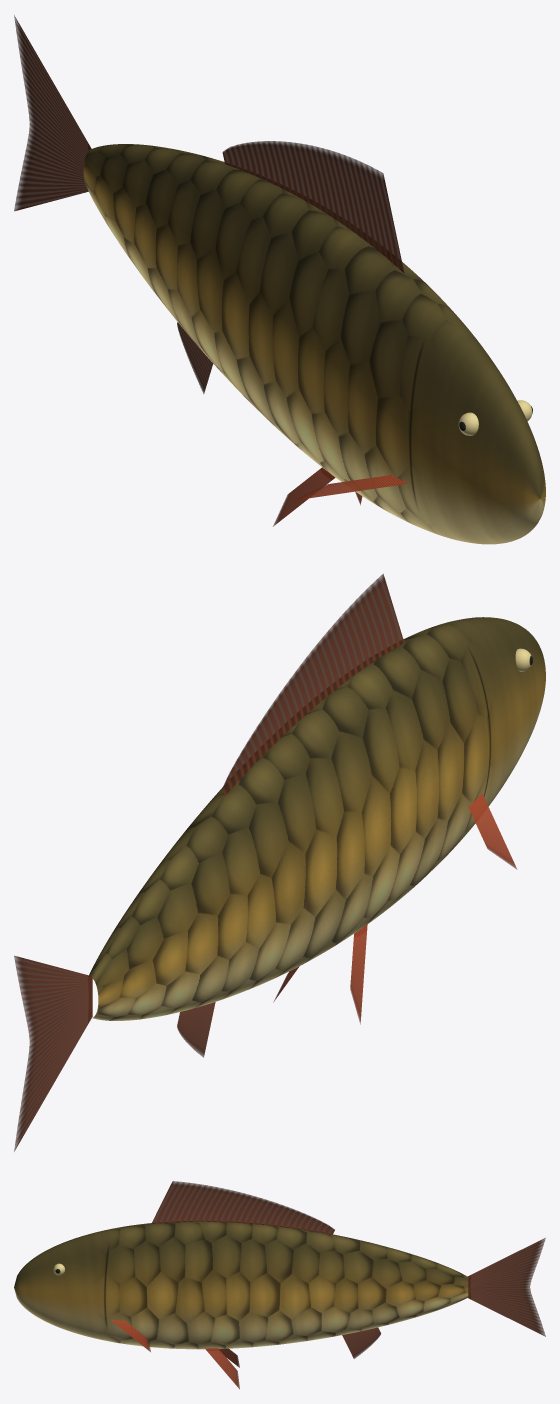
The model's file is karas.glb.
The picture shows the model from 3 angles, top to bottom: view 1: azimuth 30°, elevation 25°; view 2: azimuth 150°, elevation 25°; view 3: azimuth 270°, elevation 25°; orthographic projection. The views are drawn at different scales.
Parts seen in each view (by area): view 1: body, fin_dorsal0, fin_tail, fin_pect_R, fin_pelv_R, fin_anal0; view 2: body, fin_dorsal0, fin_tail, fin_anal0, fin_pect_R, fin_pelv_R; view 3: body, fin_dorsal0, fin_tail, fin_anal0, fin_pelv_L, fin_pect_L.
Boxes of the visible parts, box(x1,y1,x2,y2) form: body: box(83, 144, 545, 544); fin_dorsal0: box(222, 141, 404, 273); fin_tail: box(14, 15, 91, 211); fin_pect_R: box(292, 475, 407, 500); fin_pelv_R: box(273, 467, 335, 526); fin_anal0: box(177, 322, 213, 394); body: box(89, 617, 545, 1020); fin_dorsal0: box(222, 574, 404, 795); fin_tail: box(14, 955, 92, 1151); fin_anal0: box(177, 1002, 215, 1057); fin_pect_R: box(468, 793, 517, 869); fin_pelv_R: box(350, 924, 367, 1024); body: box(14, 1221, 468, 1349); fin_dorsal0: box(151, 1181, 334, 1234); fin_tail: box(467, 1238, 545, 1336); fin_anal0: box(342, 1327, 381, 1358); fin_pelv_L: box(205, 1348, 239, 1389); fin_pect_L: box(110, 1319, 150, 1351).
Bounding box in the file's own units: 0.0695 × 0.1151 × 0.28.
Materials: 5 (3 with a texture image).
